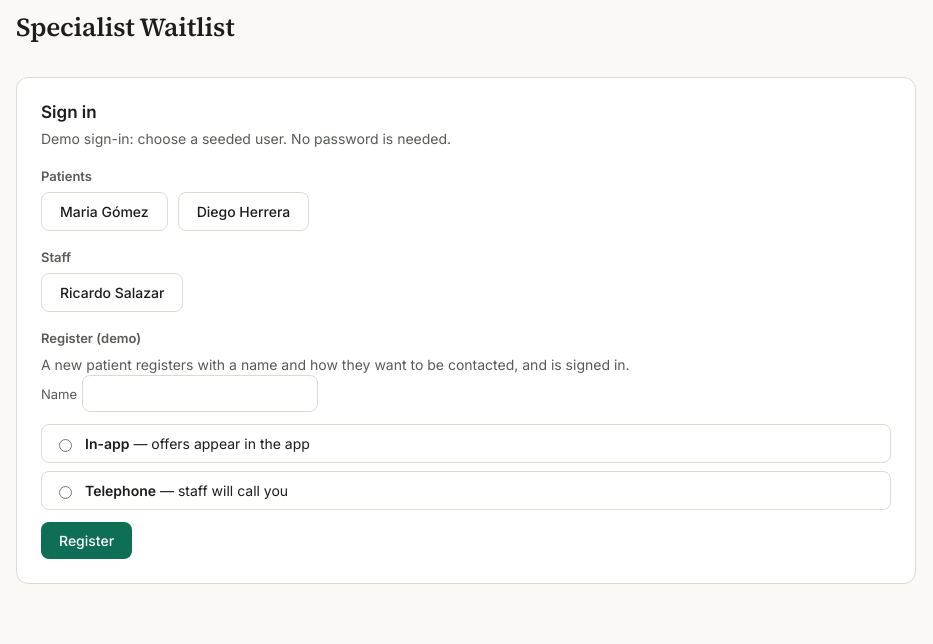
it: sign-in and role routing (6.2) › shows an error when sign-in fails and stays signed out
Click the button "Maria Gómez": (104, 211) [41,192,168,231]
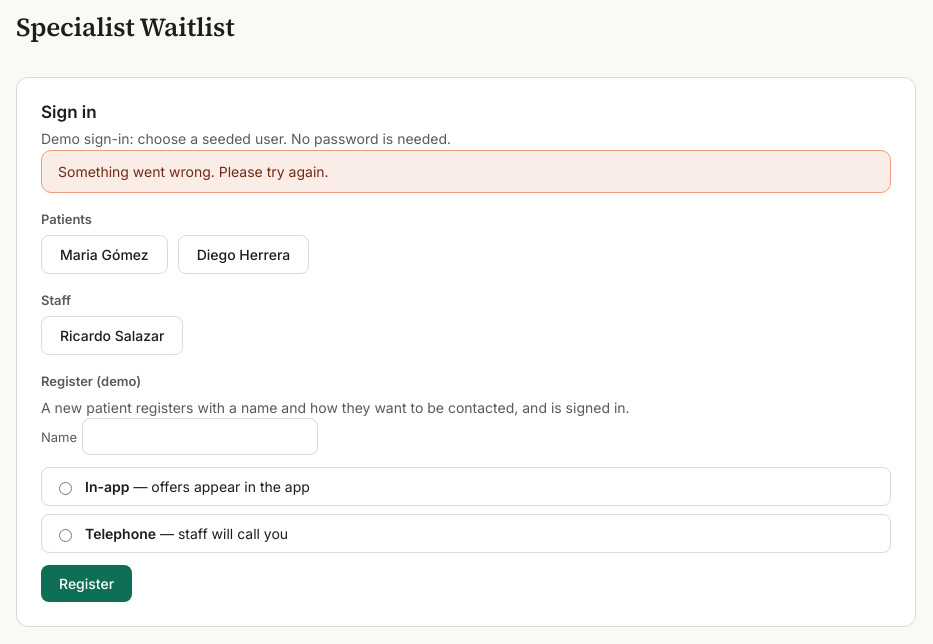
Expected: the heading "Sign in" is shown, [41,102,97,122]
Now the message shows "Something went wrong", box [58,163,329,180]
